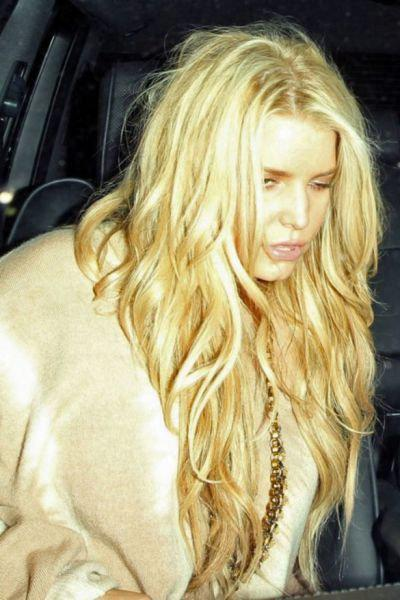Drunk: (243, 112, 333, 280)
